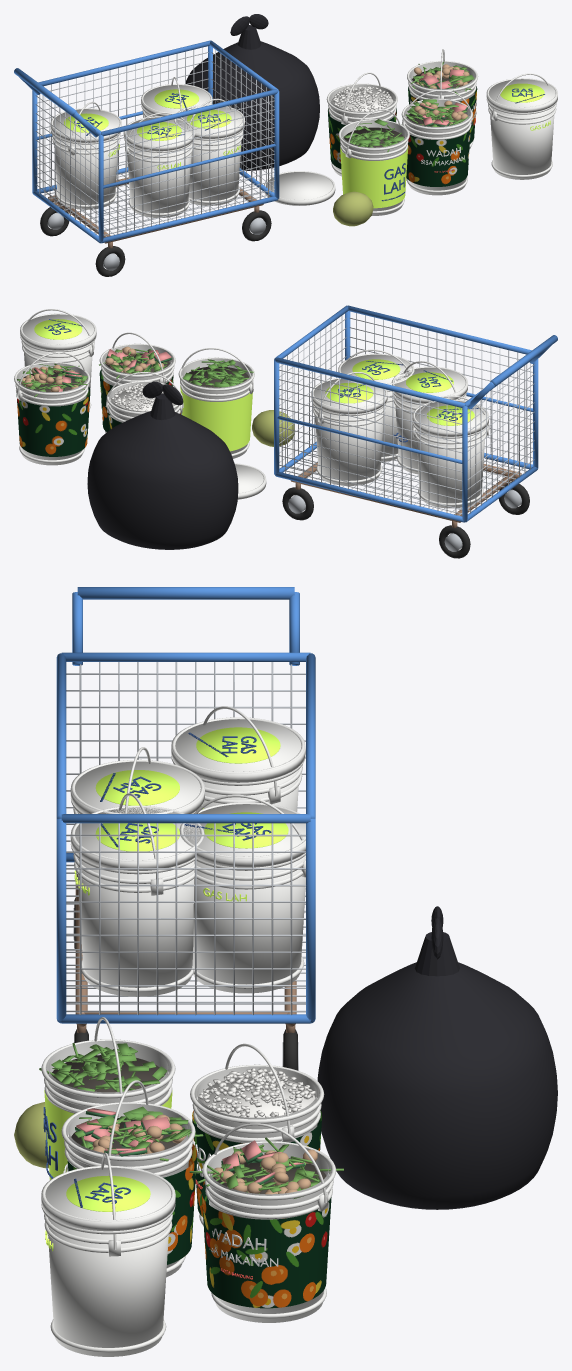
Rendered from gaslah.glb.
3 renders of one model, top to bottom at view 1: azimuth 30°, elevation 25°; view 2: azimuth 150°, elevation 25°; view 3: azimuth 270°, elevation 25°, orthographic. The views are drawn at different scales.
Parts seen in each view (by area): view 1: Gerobak_Kawat, Kantong_Sampah_Besar, Ember_Lantai_4, Ember_GasLah_Tutup_1, Ember_Lantai_0, Ember_GasLah_Tutup_2, Ember_GasLah_Tutup_0, Ember_Lantai_1, Tutup_Plastik_Kelapa, Ember_Lantai_1_PitaMotif, Ember_Lantai_2, Ember_Lantai_3 (+4 smaller); view 2: Gerobak_Kawat, Kantong_Sampah_Besar, Ember_GasLah_Tutup_2, Ember_GasLah_Tutup_3, Ember_Lantai_0, Ember_Lantai_3_PitaMotif, Ember_Lantai_4, Ember_Lantai_3, Ember_GasLah_Tutup_1, Ember_Lantai_1, Ember_GasLah_Tutup_0, Tutup_Plastik_Kelapa (+3 smaller); view 3: Kantong_Sampah_Besar, Gerobak_Kawat, Ember_Lantai_4, Ember_GasLah_Tutup_0, Ember_GasLah_Tutup_3, Ember_Lantai_3, Ember_Lantai_3_PitaMotif, Ember_GasLah_Tutup_2, Ember_Lantai_0, Ember_Lantai_2, Ember_Lantai_1, Ember_GasLah_Tutup_1 (+4 smaller).
Boxes of the visible parts, bbox=[...] form: Gerobak_Kawat: bbox=[14, 40, 279, 276]; Kantong_Sampah_Besar: bbox=[186, 41, 319, 170]; Ember_Lantai_4: bbox=[486, 73, 557, 179]; Ember_GasLah_Tutup_1: bbox=[123, 112, 194, 217]; Ember_Lantai_0: bbox=[338, 109, 409, 215]; Ember_GasLah_Tutup_2: bbox=[50, 101, 121, 209]; Ember_GasLah_Tutup_0: bbox=[173, 98, 244, 205]; Ember_Lantai_1: bbox=[401, 90, 472, 195]; Tutup_Plastik_Kelapa: bbox=[264, 171, 373, 226]; Ember_Lantai_1_PitaMotif: bbox=[401, 124, 470, 186]; Ember_Lantai_2: bbox=[326, 72, 397, 176]; Ember_Lantai_3: bbox=[407, 49, 478, 149]; Gerobak_Kawat: bbox=[274, 305, 557, 558]; Kantong_Sampah_Besar: bbox=[87, 411, 238, 549]; Ember_GasLah_Tutup_2: bbox=[412, 395, 489, 508]; Ember_GasLah_Tutup_3: bbox=[311, 372, 387, 485]; Ember_Lantai_0: bbox=[178, 348, 254, 458]; Ember_Lantai_3_PitaMotif: bbox=[16, 386, 90, 456]; Ember_Lantai_4: bbox=[20, 309, 96, 409]; Ember_Lantai_3: bbox=[14, 352, 90, 465]; Ember_GasLah_Tutup_1: bbox=[391, 361, 467, 474]; Ember_Lantai_1: bbox=[99, 332, 175, 432]; Ember_GasLah_Tutup_0: bbox=[338, 349, 414, 462]; Tutup_Plastik_Kelapa: bbox=[234, 410, 294, 499]; Kantong_Sampah_Besar: bbox=[317, 962, 557, 1209]; Gerobak_Kawat: bbox=[56, 587, 315, 1070]; Ember_Lantai_4: bbox=[41, 1152, 175, 1356]; Ember_GasLah_Tutup_0: bbox=[70, 793, 204, 996]; Ember_GasLah_Tutup_3: bbox=[179, 794, 305, 993]; Ember_Lantai_3: bbox=[189, 1123, 343, 1322]; Ember_Lantai_3_PitaMotif: bbox=[201, 1184, 331, 1308]; Ember_GasLah_Tutup_2: bbox=[171, 706, 305, 811]; Ember_Lantai_0: bbox=[39, 1017, 175, 1179]; Ember_Lantai_2: bbox=[190, 1043, 324, 1227]; Ember_Lantai_1: bbox=[61, 1080, 203, 1277]; Ember_GasLah_Tutup_1: bbox=[70, 747, 204, 823].
Size of the model in its own units: 2.65 by 0.909 by 1.35.
18 materials, 1 textured.
